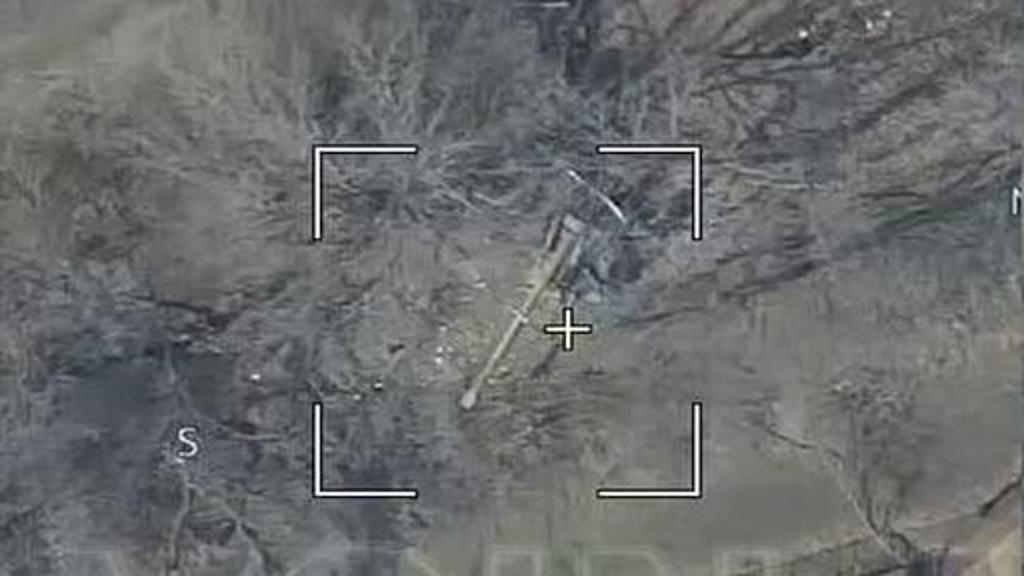ART: (454, 176, 648, 414)
